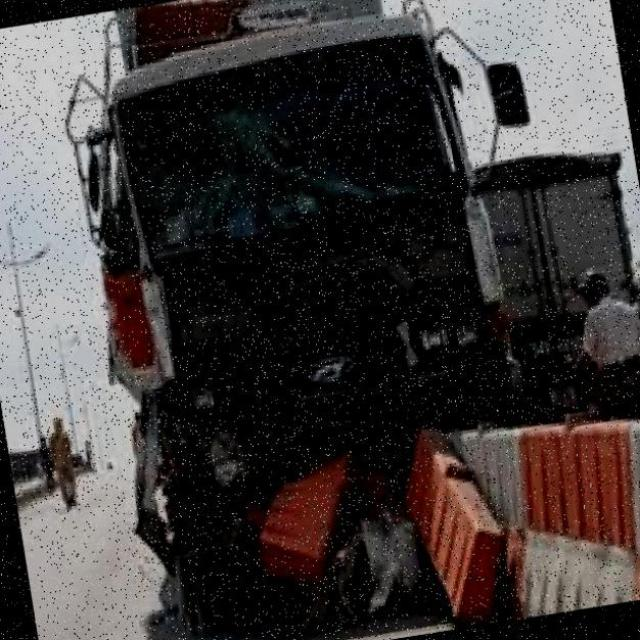accident: (30, 0, 566, 633)
